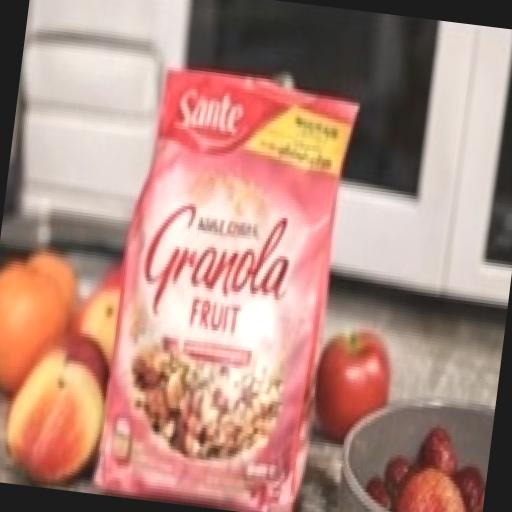granola: (77, 30, 402, 512)
